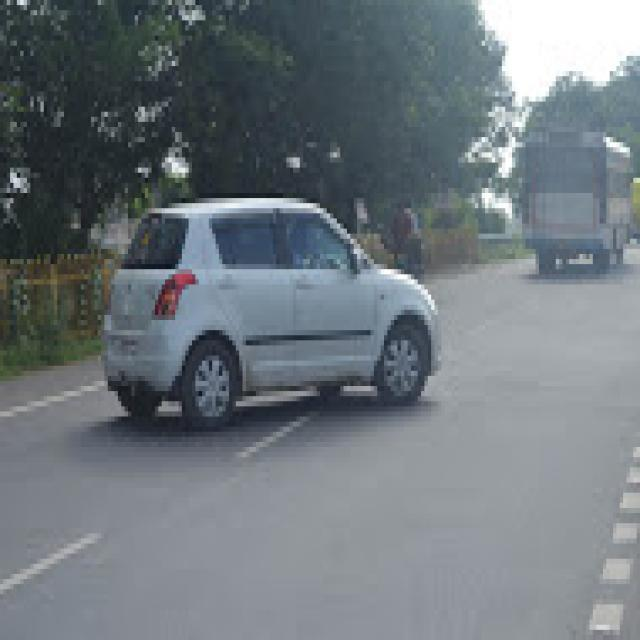bus_back: (508, 120, 634, 286)
